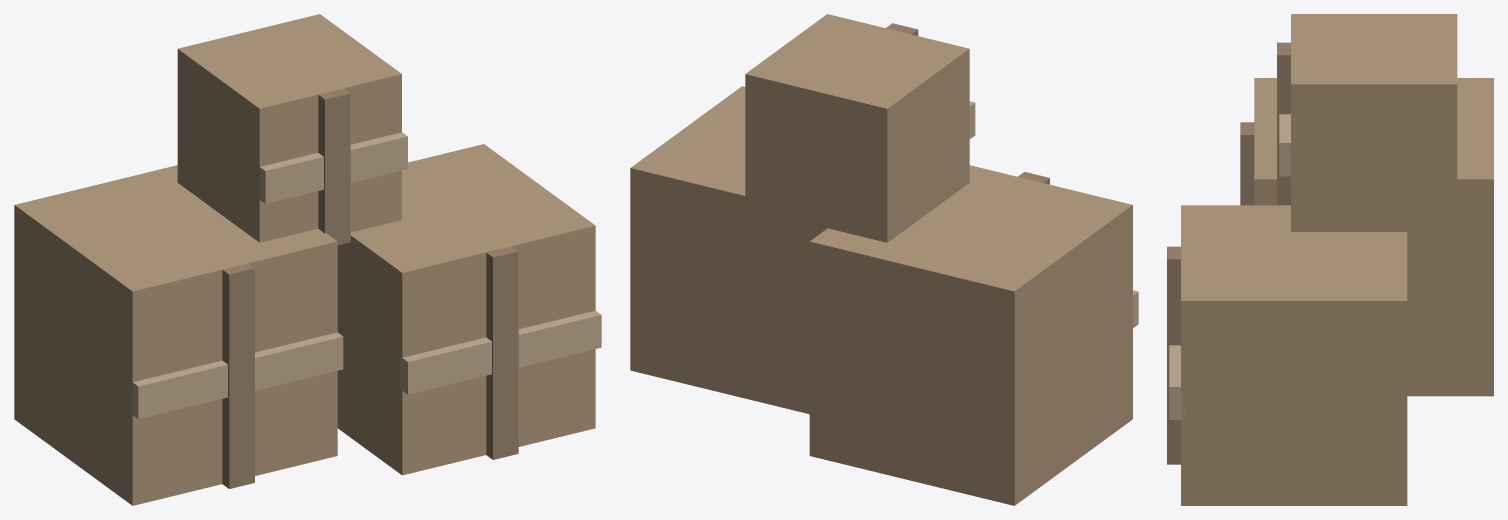
The picture shows the model from 3 angles, left to right: view 1: azimuth 30°, elevation 25°; view 2: azimuth 150°, elevation 25°; view 3: azimuth 270°, elevation 25°; orthographic projection.
Visible parts, largest first — view 1: H10; view 2: H10; view 3: H10.
Boxes of the visible parts, bbox=[...] form: H10: bbox=[14, 14, 601, 505]; H10: bbox=[630, 14, 1138, 505]; H10: bbox=[1167, 14, 1493, 505].
Size of the model in its own units: 0.75 by 0.585 by 0.491.
